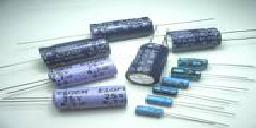Electrolytic-Capacitor: (1, 84, 127, 113), (123, 31, 175, 92), (6, 39, 115, 66), (165, 26, 256, 53), (131, 102, 224, 128), (87, 11, 162, 40)
